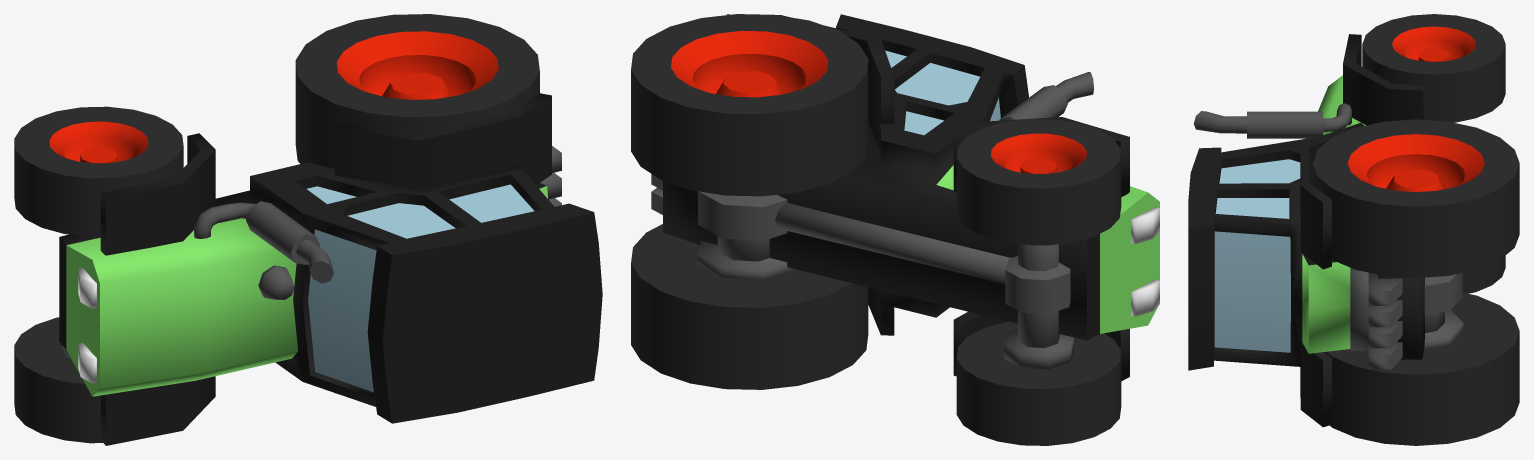
3 renders of one model, left to right at view 1: azimuth 30°, elevation 25°; view 2: azimuth 150°, elevation 25°; view 3: azimuth 270°, elevation 25°, orthographic. The views are drawn at different scales.
Visible parts, largest first — view 1: Plane001_1, Plane001_5, Plane001, Plane001_3, Plane001_6, Plane001_2, Plane001_4; view 2: Plane001_5, Plane001_1, Plane001_2, Plane001_6, Plane001, Plane001_3, Plane001_4; view 3: Plane001_5, Plane001_1, Plane001_3, Plane001_2, Plane001_6, Plane001.
Boxes of the visible parts, bbox=[...] form: Plane001_1: bbox=[59, 93, 602, 445]; Plane001_5: bbox=[14, 14, 539, 443]; Plane001: bbox=[66, 186, 547, 396]; Plane001_3: bbox=[307, 184, 534, 392]; Plane001_6: bbox=[49, 31, 498, 163]; Plane001_2: bbox=[62, 146, 561, 357]; Plane001_4: bbox=[78, 268, 96, 383]; Plane001_5: bbox=[631, 14, 1121, 445]; Plane001_1: bbox=[663, 14, 1129, 381]; Plane001_2: bbox=[651, 72, 1093, 369]; Plane001_6: bbox=[671, 31, 1086, 174]; Plane001: bbox=[936, 165, 1159, 333]; Plane001_3: bbox=[885, 50, 1000, 135]; Plane001_4: bbox=[1131, 207, 1159, 316]; Plane001_5: bbox=[1312, 14, 1519, 445]; Plane001_1: bbox=[1188, 34, 1424, 427]; Plane001_3: bbox=[1214, 159, 1300, 352]; Plane001_2: bbox=[1193, 103, 1463, 369]; Plane001_6: bbox=[1347, 26, 1484, 191]; Plane001: bbox=[1302, 75, 1365, 353].
Size of the model in its own units: 1.67 by 0.9111 by 1.14.
